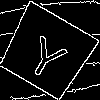Y: (22, 26, 74, 84)
